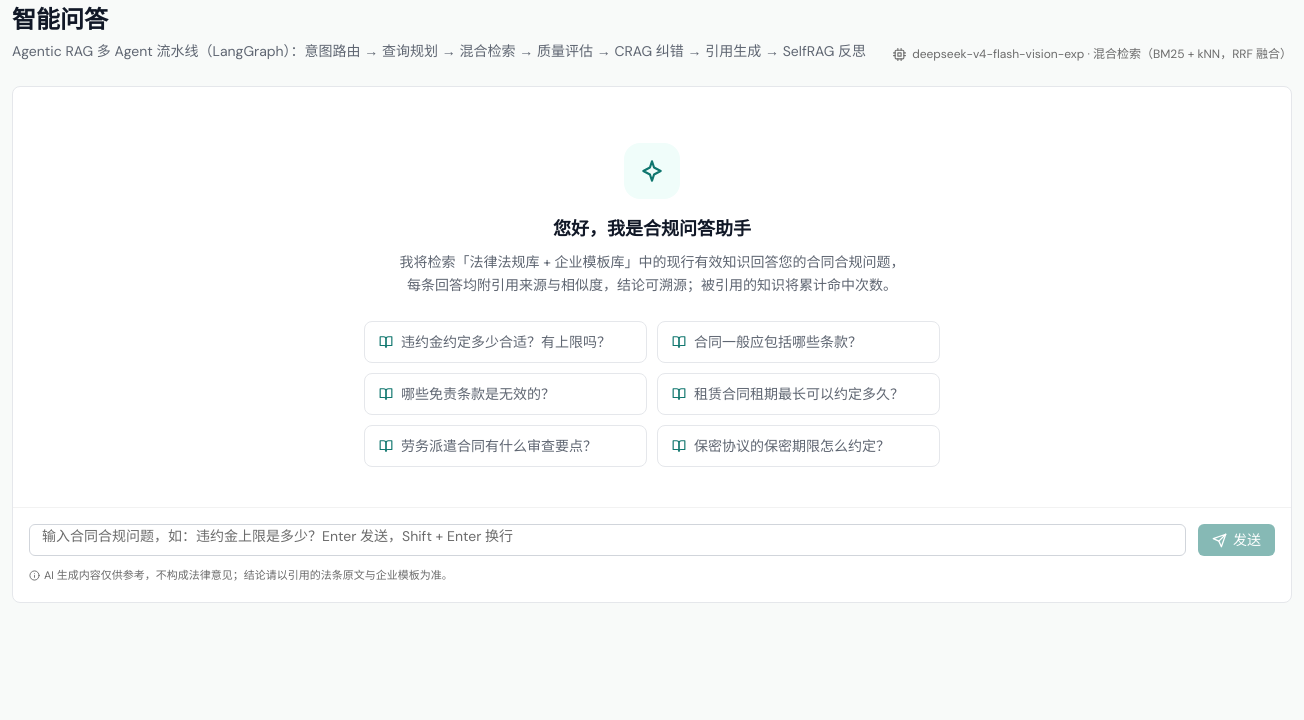
Test: QaAssistantView › 点击快捷问题发送并流式渲染回答与引用
Click the button "合同一般应包括哪些条款？": (798, 342) [657, 320, 940, 362]
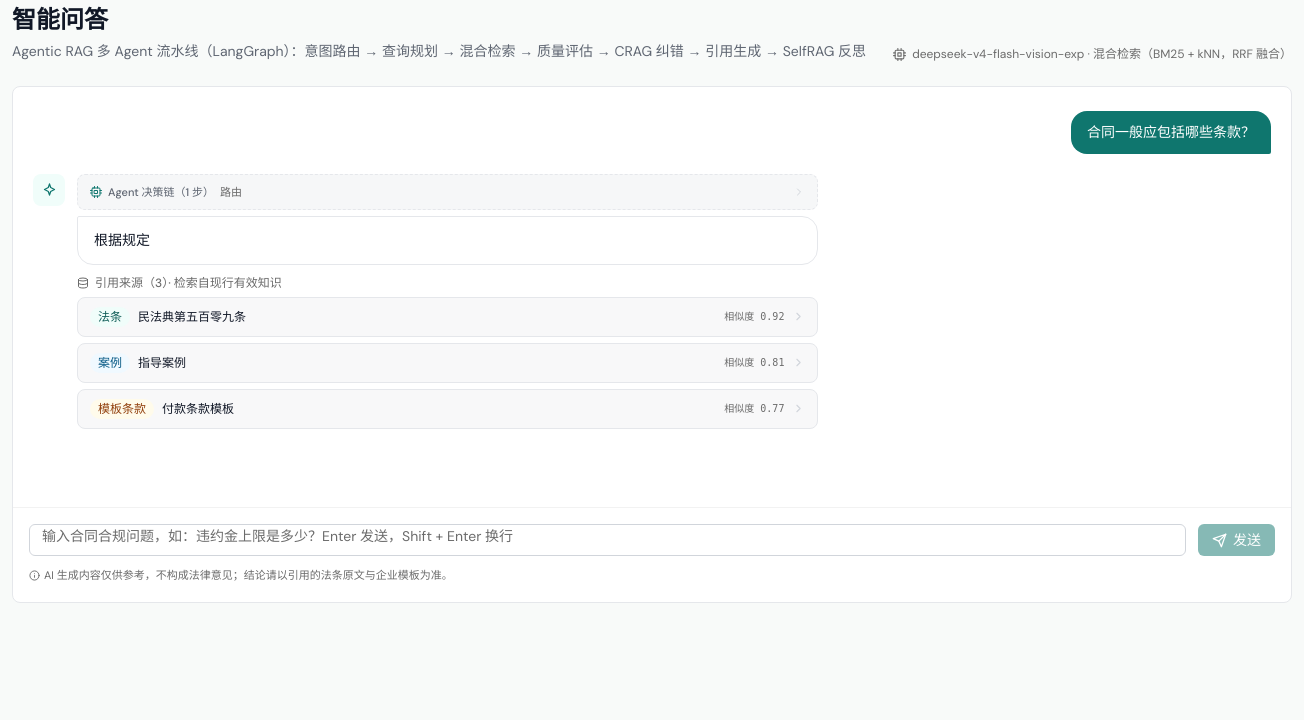
Expected: the text "合同一般应包括哪些条款？" is shown, [1071, 111, 1271, 154]
Expected: the text "根据规" is shown, [77, 216, 818, 265]
Expected: the text "民法典第五百零九条" is shown, [138, 308, 246, 324]
